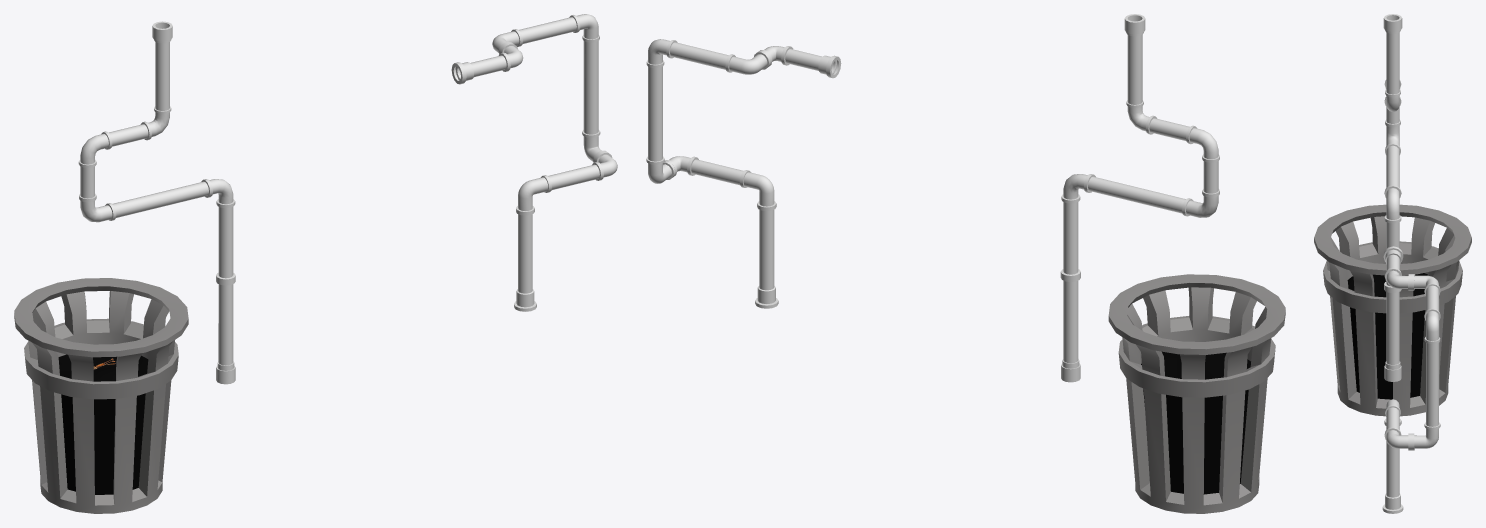
The model's file is decoMapPac.fbx.
3 renders of one model, left to right at view 1: azimuth 30°, elevation 25°; view 2: azimuth 150°, elevation 25°; view 3: azimuth 270°, elevation 25°, orthographic. The views are drawn at different scales.
Visible parts, largest first — view 1: Trashcan, Plane, Pipe; view 2: Trashcan, Plane, Pipe; view 3: Trashcan, Pipe, Plane.
Part boxes in pixels (x1=…): Trashcan: x1=14, y1=278, x2=188, y2=513; Plane: x1=78, y1=21, x2=235, y2=384; Pipe: x1=451, y1=14, x2=617, y2=311; Trashcan: x1=1108, y1=274, x2=1285, y2=513; Plane: x1=1060, y1=14, x2=1219, y2=382; Pipe: x1=646, y1=39, x2=841, y2=308; Trashcan: x1=1314, y1=204, x2=1471, y2=416; Pipe: x1=1382, y1=246, x2=1440, y2=513; Plane: x1=1383, y1=14, x2=1402, y2=381.
Bounding box in the file's own units: 186 × 134 × 47.42.
